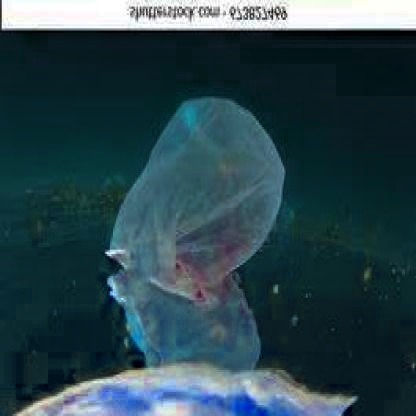pbag: (105, 94, 287, 296)
